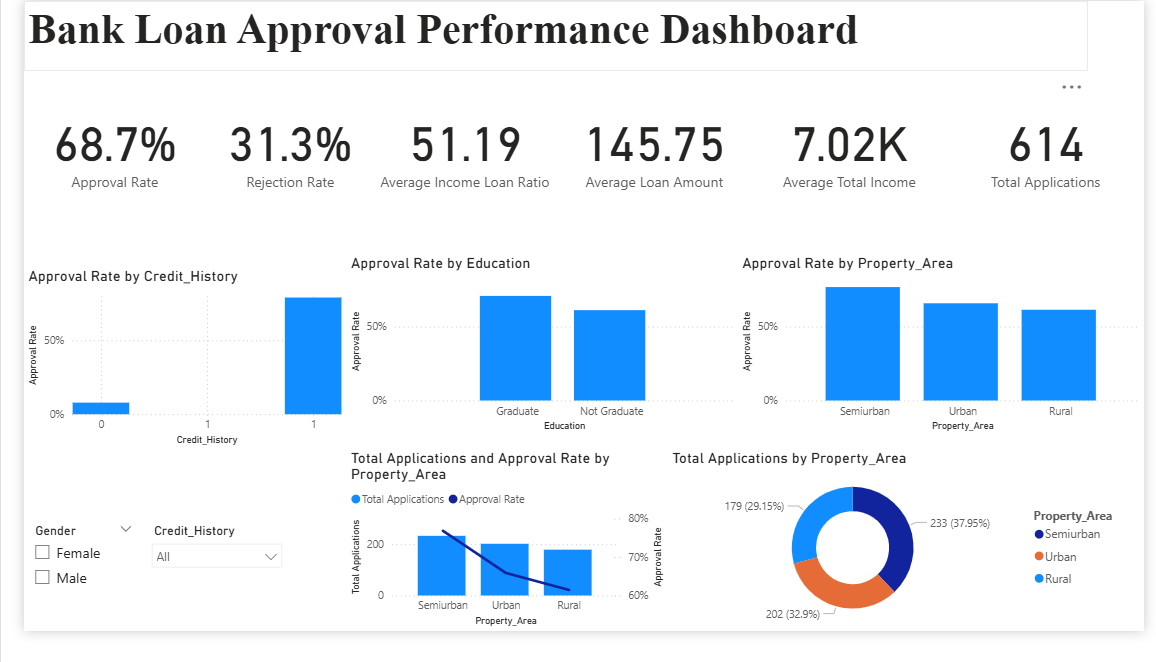

The dashboard page shown, as its layout file describes it:
{"tool":"powerbi","page":{"name":"Page 1","canvas":[1280,720],"ordinal":0},"visuals":[{"type":"card","fields":{"Values":["bank_loan_cleaned.Approval Rate"]},"box":[0,80,208,176],"z":0,"group":"g1"},{"type":"card","fields":{"Values":["bank_loan_cleaned.Rejection Rate"]},"box":[208,80,192,176],"z":1,"group":"g1"},{"type":"card","fields":{"Values":["bank_loan_cleaned.Average Income Loan Ratio"]},"box":[400,80,208,176],"z":2,"group":"g1"},{"type":"card","fields":{"Values":["bank_loan_cleaned.Average Loan Amount"]},"box":[608,80,224,176],"z":3,"group":"g1"},{"type":"card","fields":{"Values":["bank_loan_cleaned.Average Total Income"]},"box":[832,80,224,176],"z":4,"group":"g1"},{"type":"card","fields":{"Values":["bank_loan_cleaned.Total Applications"]},"box":[1056,80,224,176],"z":5,"group":"g1"},{"type":"clusteredColumnChart","fields":{"Category":["bank_loan_cleaned.Credit_History"],"Y":["bank_loan_cleaned.Approval Rate"]},"box":[0,304,368,208],"z":6},{"type":"clusteredColumnChart","fields":{"Category":["bank_loan_cleaned.Education"],"Y":["bank_loan_cleaned.Approval Rate"]},"box":[368,288,448,208],"z":7},{"type":"clusteredColumnChart","fields":{"Category":["bank_loan_cleaned.Property_Area"],"Y":["bank_loan_cleaned.Approval Rate"]},"box":[816,288,464,208],"z":8},{"type":"slicer","fields":{"Values":["bank_loan_cleaned.Credit_History"]},"box":[135.1,592,168.9,128],"z":10,"group":"g2"},{"type":"slicer","fields":{"Values":["bank_loan_cleaned.Gender"]},"box":[0,592,135.1,128],"z":11,"group":"g2"},{"type":"donutChart","fields":{"Category":["bank_loan_cleaned.Property_Area"],"Y":["bank_loan_cleaned.Total Applications"]},"box":[736,512,528,208],"z":12},{"type":"group","id":"g1","title":"Group 1","box":[0,80,1280,176],"z":13},{"type":"group","id":"g2","title":"Group 2","box":[0,592,304,128],"z":14},{"type":"lineStackedColumnComboChart","fields":{"Category":["bank_loan_cleaned.Property_Area"],"Y":["bank_loan_cleaned.Total Applications"],"Y2":["bank_loan_cleaned.Approval Rate"]},"box":[368,512,368,208],"z":15},{"type":"textbox","box":[0,0,1216,80],"z":16}]}

Visuals, with their boxes in screenshot pixels (x1, y1, x2, y2), scaled from the page's 1280x720 canvas onto the 1156x662 screenshot:
card - bank_loan_cleaned.Approval Rate: locate(0, 74, 188, 235)
card - bank_loan_cleaned.Rejection Rate: locate(188, 74, 361, 235)
card - bank_loan_cleaned.Average Income Loan Ratio: locate(361, 74, 549, 235)
card - bank_loan_cleaned.Average Loan Amount: locate(549, 74, 751, 235)
card - bank_loan_cleaned.Average Total Income: locate(751, 74, 954, 235)
card - bank_loan_cleaned.Total Applications: locate(954, 74, 1155, 235)
clusteredColumnChart - bank_loan_cleaned.Credit_History x bank_loan_cleaned.Approval Rate: locate(0, 280, 332, 471)
clusteredColumnChart - bank_loan_cleaned.Education x bank_loan_cleaned.Approval Rate: locate(332, 265, 737, 456)
clusteredColumnChart - bank_loan_cleaned.Property_Area x bank_loan_cleaned.Approval Rate: locate(737, 265, 1155, 456)
slicer - bank_loan_cleaned.Credit_History: locate(122, 544, 275, 661)
slicer - bank_loan_cleaned.Gender: locate(0, 544, 122, 661)
donutChart - bank_loan_cleaned.Property_Area x bank_loan_cleaned.Total Applications: locate(665, 471, 1142, 661)
"Group 1" group: locate(0, 74, 1155, 235)
"Group 2" group: locate(0, 544, 275, 661)
lineStackedColumnComboChart - bank_loan_cleaned.Property_Area x bank_loan_cleaned.Total Applications: locate(332, 471, 665, 661)
textbox: locate(0, 0, 1098, 74)
